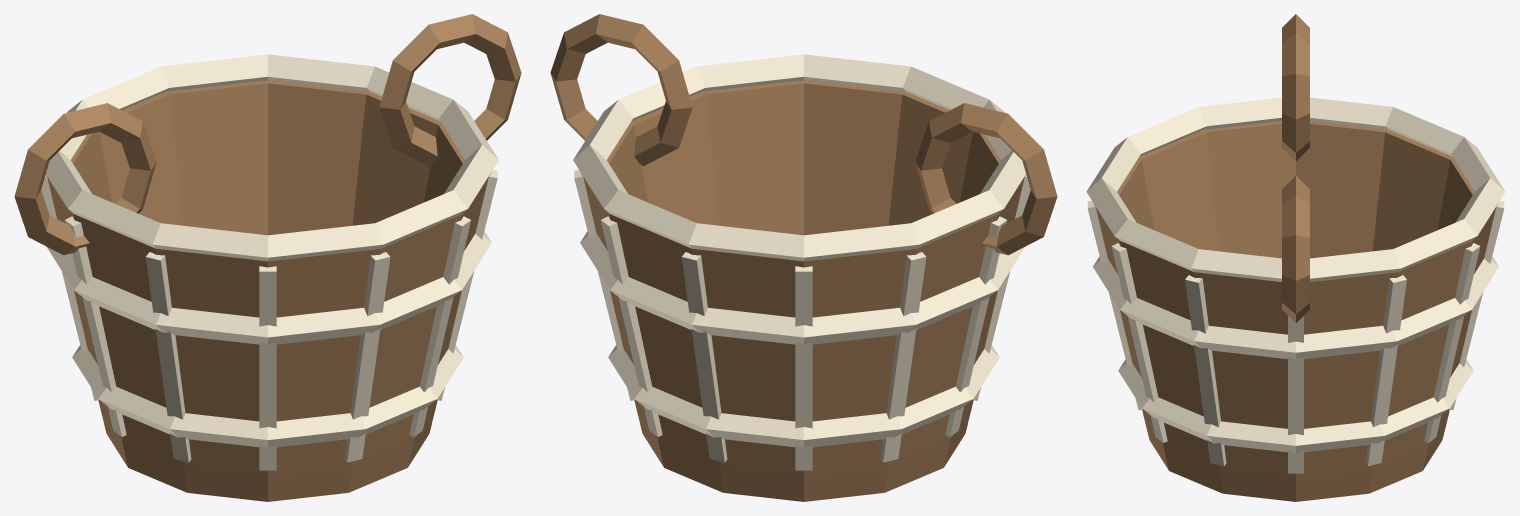
Rendered from AC_Fishing_Basket.glb.
3 renders of one model, left to right at view 1: azimuth 30°, elevation 25°; view 2: azimuth 150°, elevation 25°; view 3: azimuth 270°, elevation 25°, orthographic. The views are drawn at different scales.
Visible parts, largest first — view 1: AC_Fishing_Basket; view 2: AC_Fishing_Basket; view 3: AC_Fishing_Basket.
Part boxes in pixels (x1,y1,x2,y2): AC_Fishing_Basket: (14,14,521,501); AC_Fishing_Basket: (550,14,1057,501); AC_Fishing_Basket: (1086,14,1505,501).
Bounding box in the file's own units: 0.834 × 0.5813 × 0.658.
